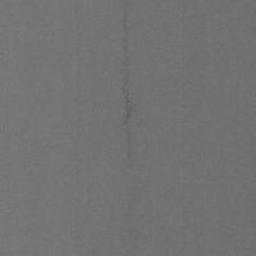Inclusion: (120, 0, 133, 150)
